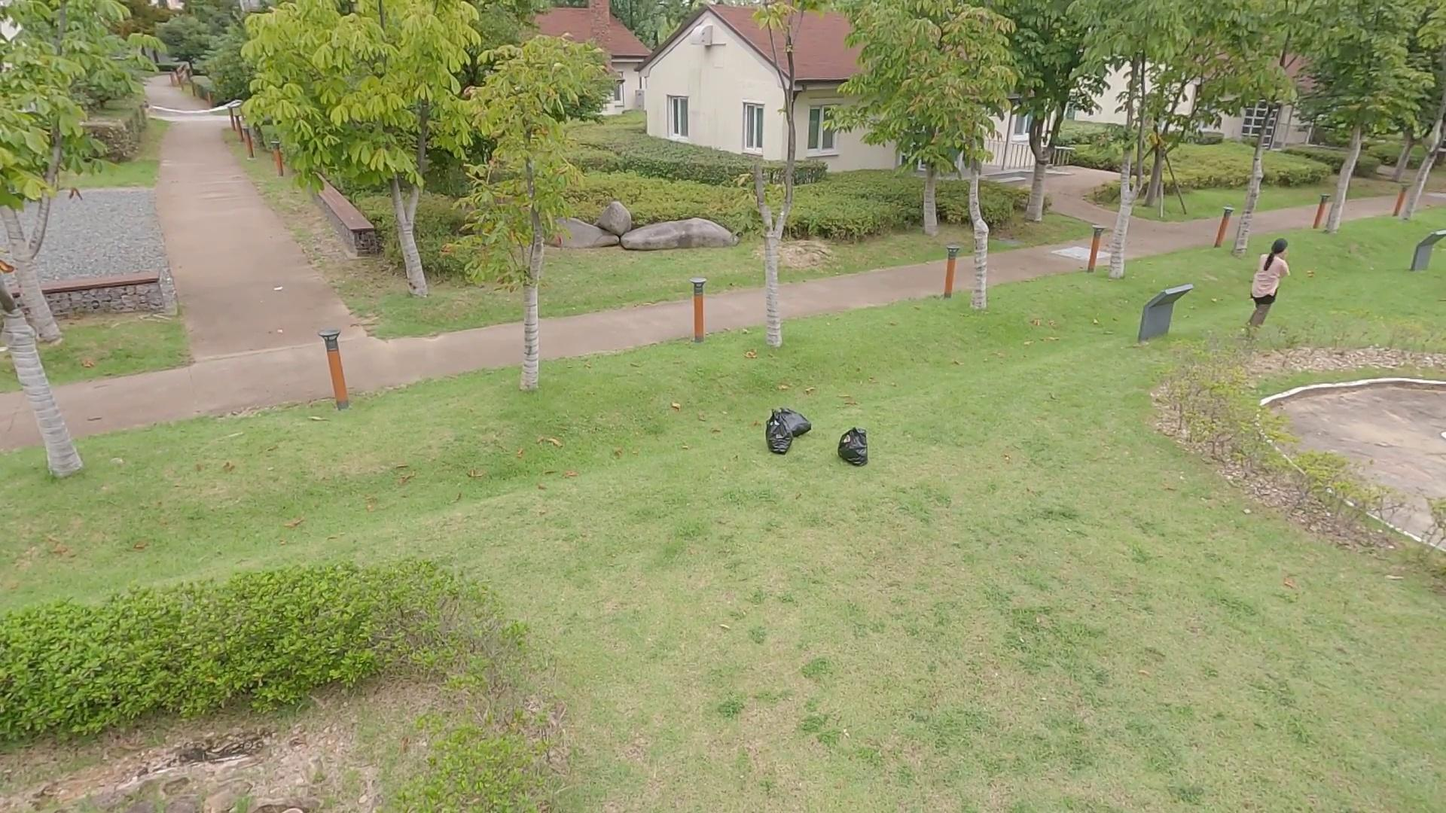person: (1247, 236, 1290, 343)
trash: (769, 405, 812, 439), (838, 426, 869, 468), (764, 414, 794, 455)
